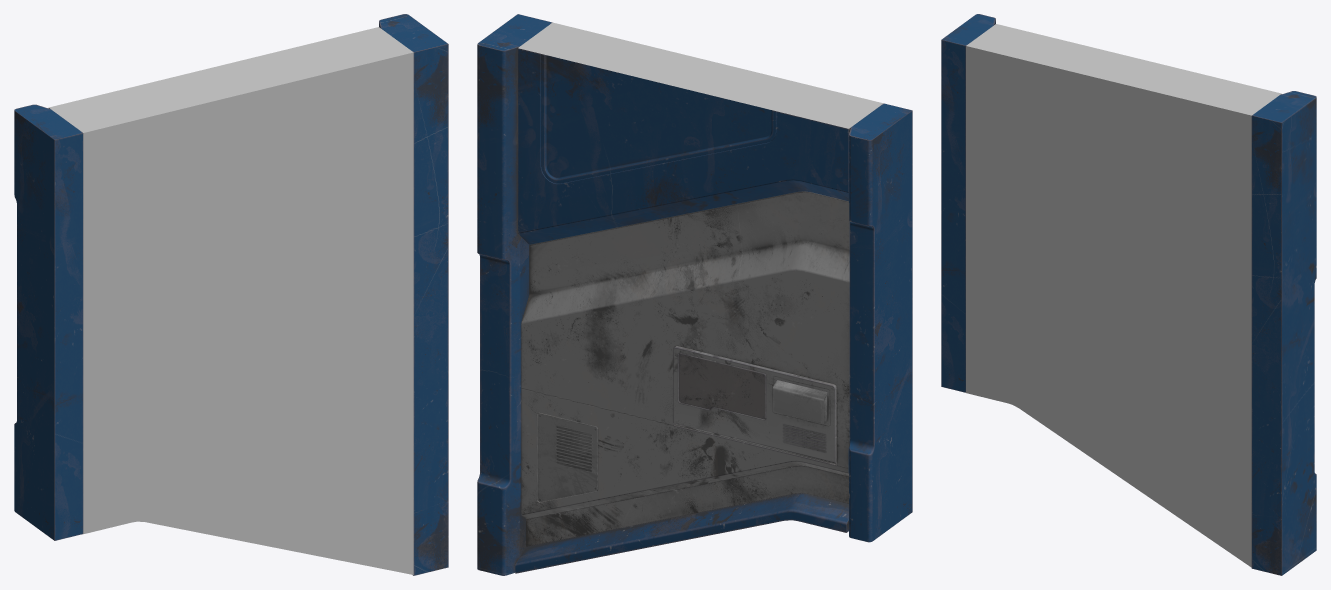
Rendered from SM_CorridorStair01.fbx.
3 views of the same model, side by side, from view 1: azimuth 30°, elevation 25°; view 2: azimuth 150°, elevation 25°; view 3: azimuth 330°, elevation 25° (orthographic). The views are drawn at different scales.
Visible parts, largest first — view 1: SM_CorridorStair01_LOD0; view 2: SM_CorridorStair01_LOD0; view 3: SM_CorridorStair01_LOD0.
Boxes of the visible parts, x1,y1,x2,y2 form: SM_CorridorStair01_LOD0: (14, 14, 448, 575); SM_CorridorStair01_LOD0: (477, 14, 912, 575); SM_CorridorStair01_LOD0: (941, 14, 1316, 575).
Bounding box in the file's own units: 380 × 69.96 × 483.
Materials: 2 (1 with a texture image).
